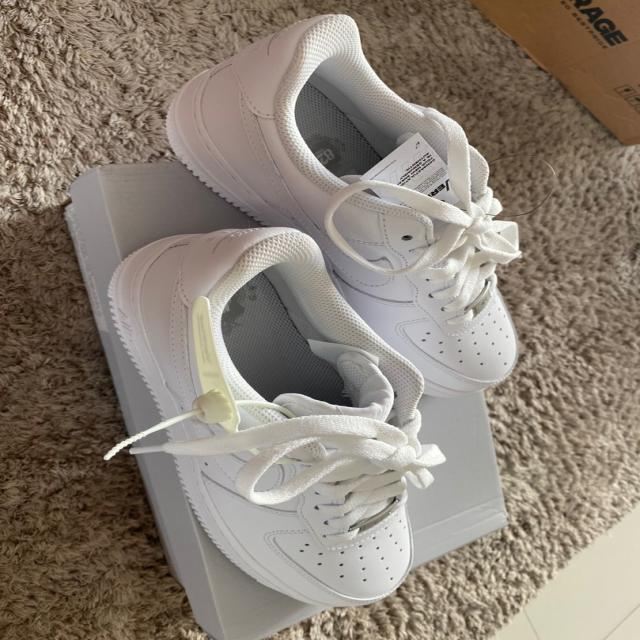nike original air force: (156, 12, 534, 400), (108, 226, 468, 612)
